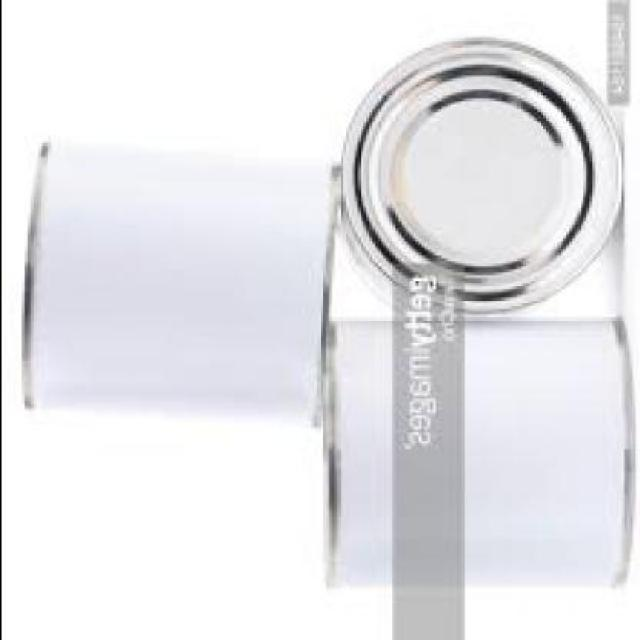METAL: (18, 138, 336, 427), (318, 315, 630, 587), (340, 36, 622, 312)
